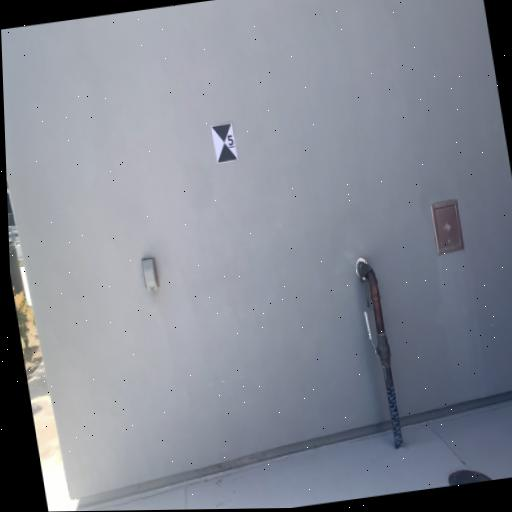target5: (210, 122, 239, 161)
